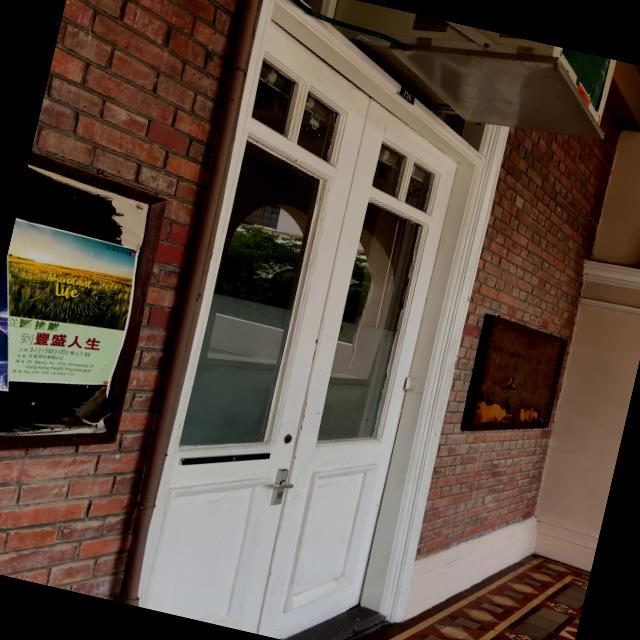room216: (395, 84, 418, 104)
